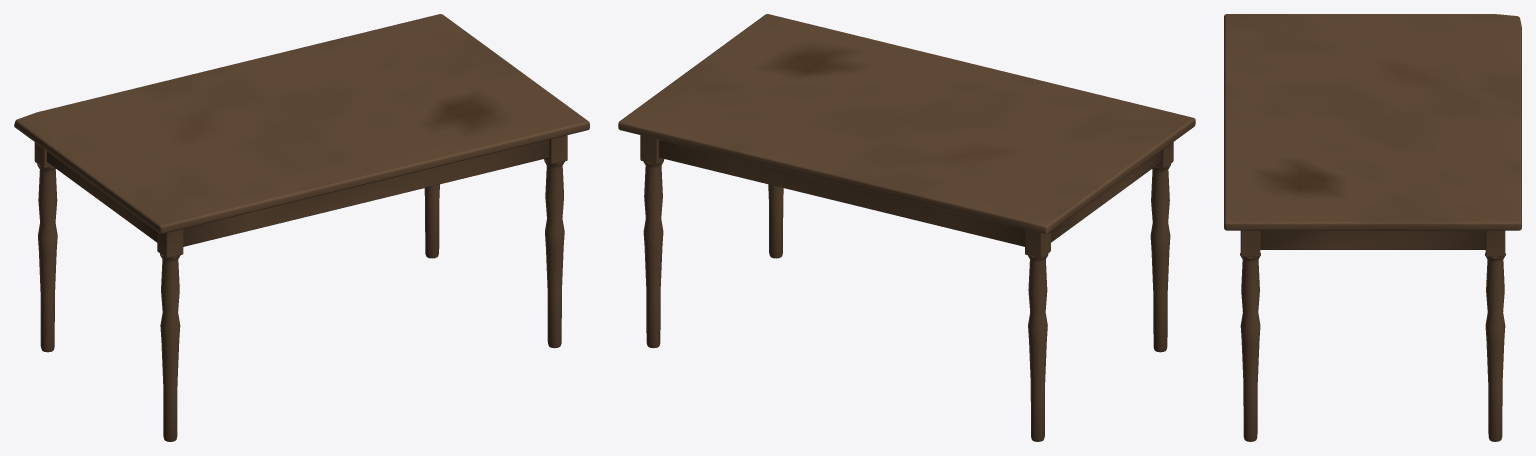
The model's file is dining_table.glb.
3 views of the same model, side by side, from view 1: azimuth 30°, elevation 25°; view 2: azimuth 150°, elevation 25°; view 3: azimuth 270°, elevation 25° (orthographic).
Parts seen in each view (by area): view 1: dining_table; view 2: dining_table; view 3: dining_table.
Part boxes in pixels (x1,y1,x2,y2): dining_table: (14,14,589,441); dining_table: (618,14,1195,441); dining_table: (1224,14,1521,441).
Bounding box in the file's own units: 1.5 × 0.76 × 0.8999.
